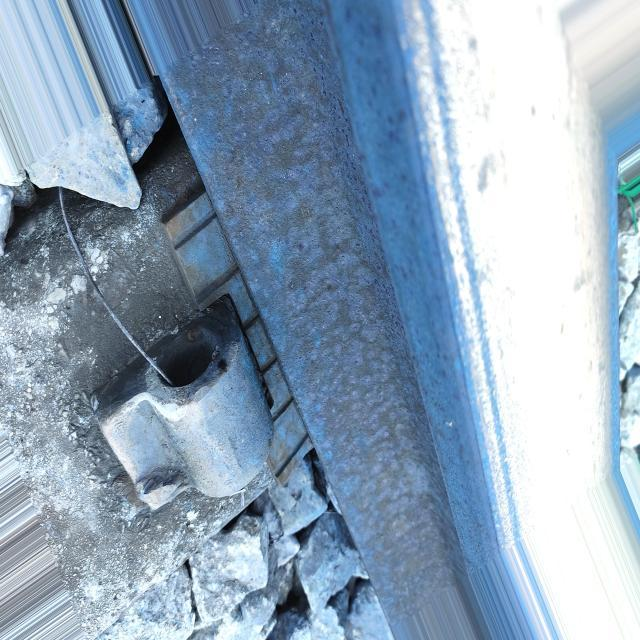Missing Fastener: (18, 253, 303, 559)
